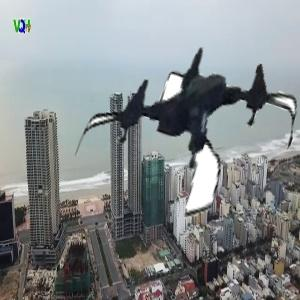drone: (91, 22, 296, 227)
